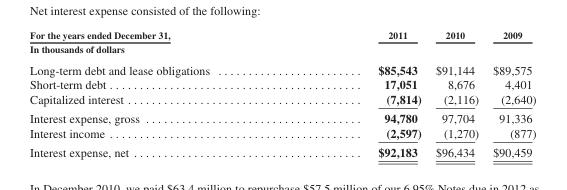table: (29, 28, 535, 158)
table column: (29, 28, 293, 158), (293, 28, 427, 158), (427, 28, 485, 158), (485, 28, 535, 158)
table column header: (29, 28, 535, 41)
table projected row header: (29, 41, 535, 58)
table row: (29, 58, 535, 76), (29, 41, 535, 58), (29, 91, 535, 108), (29, 108, 535, 125), (29, 125, 535, 142), (29, 142, 535, 158), (29, 76, 535, 91), (29, 28, 535, 41)
